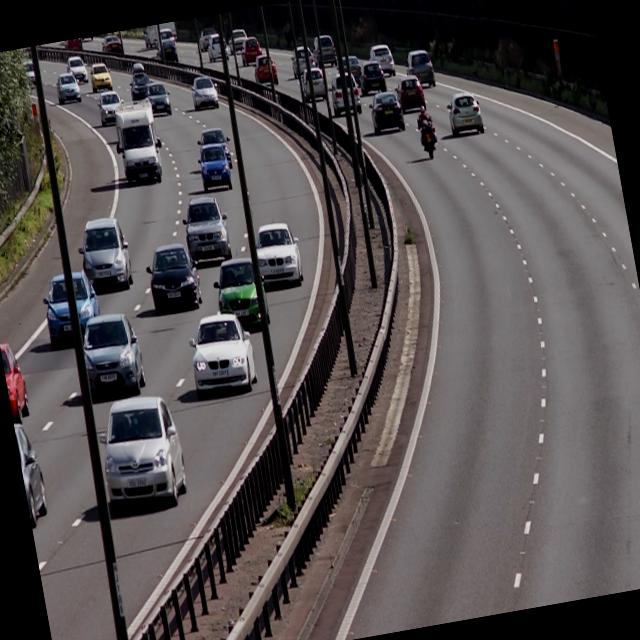Vehicle: (84, 389, 190, 514), (70, 306, 146, 406), (180, 309, 261, 402), (34, 266, 105, 350), (207, 254, 273, 340), (72, 213, 138, 298), (106, 98, 166, 190), (139, 238, 204, 318), (176, 188, 233, 274), (246, 217, 306, 292), (442, 88, 485, 140), (194, 141, 233, 195), (367, 88, 408, 138), (327, 72, 362, 118), (354, 54, 389, 99), (392, 70, 426, 116), (401, 48, 436, 92), (186, 72, 221, 116), (50, 68, 82, 108), (94, 86, 124, 128), (142, 80, 174, 118), (87, 56, 117, 94), (366, 41, 395, 80)
